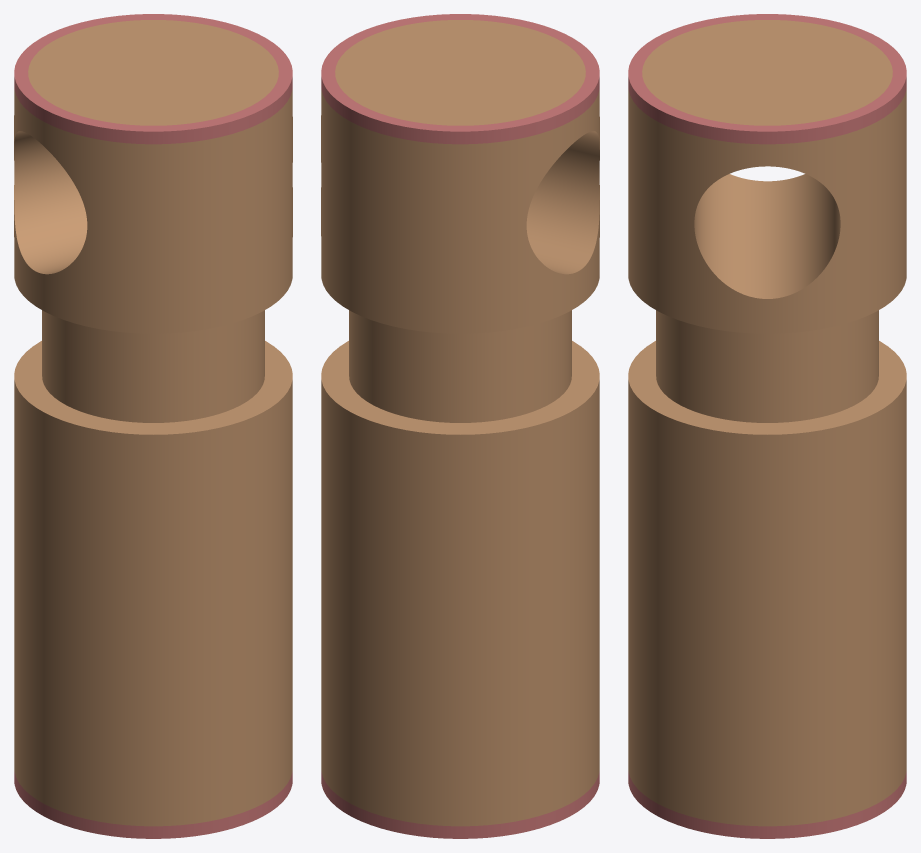
File: step_15.glb
The picture shows the model from 3 angles, left to right: view 1: azimuth 30°, elevation 25°; view 2: azimuth 150°, elevation 25°; view 3: azimuth 270°, elevation 25°; orthographic projection.
Parts seen in each view (by area): view 1: part__screw M20 x 2.5 x 56, removed__screw M20 x 2.5 x 56; view 2: part__screw M20 x 2.5 x 56, removed__screw M20 x 2.5 x 56; view 3: part__screw M20 x 2.5 x 56, removed__screw M20 x 2.5 x 56.
Part boxes in pixels (x1=…): part__screw M20 x 2.5 x 56: x1=14, y1=20, x2=292, y2=826; removed__screw M20 x 2.5 x 56: x1=14, y1=14, x2=292, y2=838; part__screw M20 x 2.5 x 56: x1=321, y1=20, x2=599, y2=826; removed__screw M20 x 2.5 x 56: x1=321, y1=14, x2=599, y2=838; part__screw M20 x 2.5 x 56: x1=628, y1=20, x2=906, y2=826; removed__screw M20 x 2.5 x 56: x1=628, y1=14, x2=906, y2=838.
Bounding box in the file's own units: 20 × 56 × 19.99.
